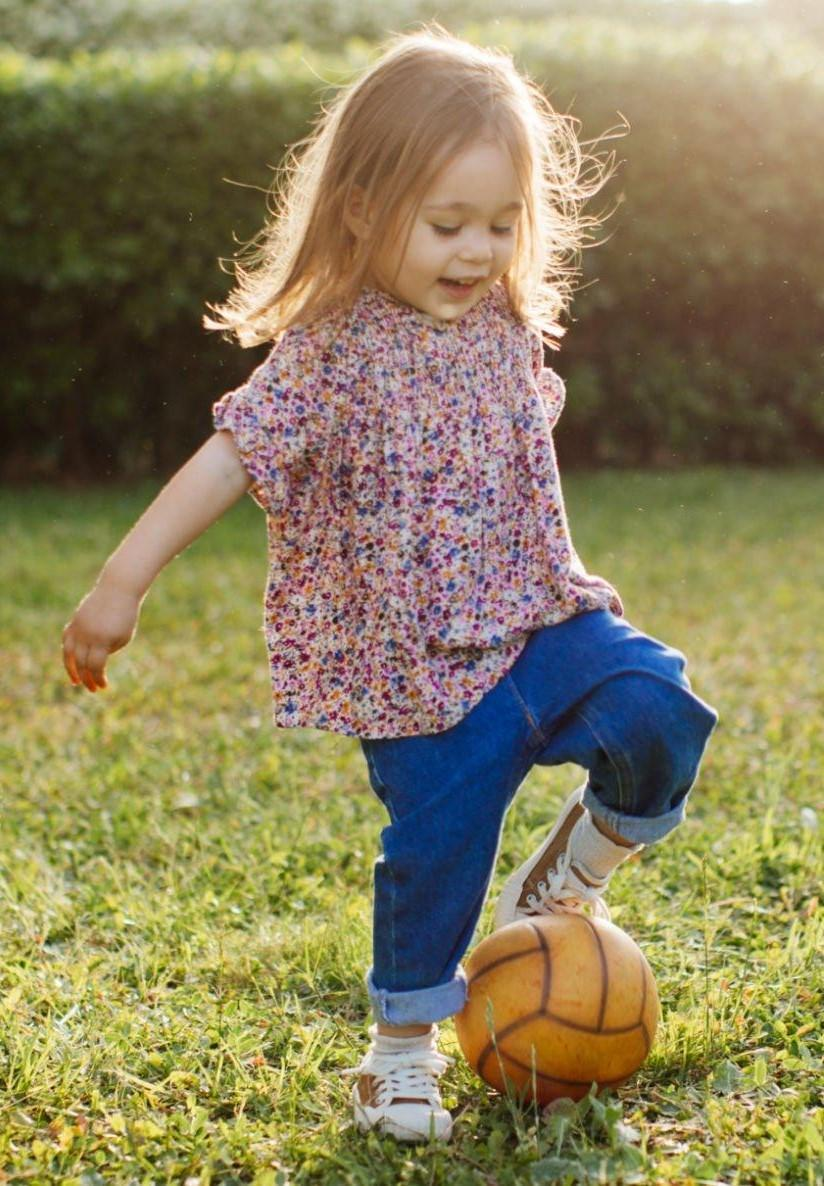Healthy: (350, 87, 545, 327)
